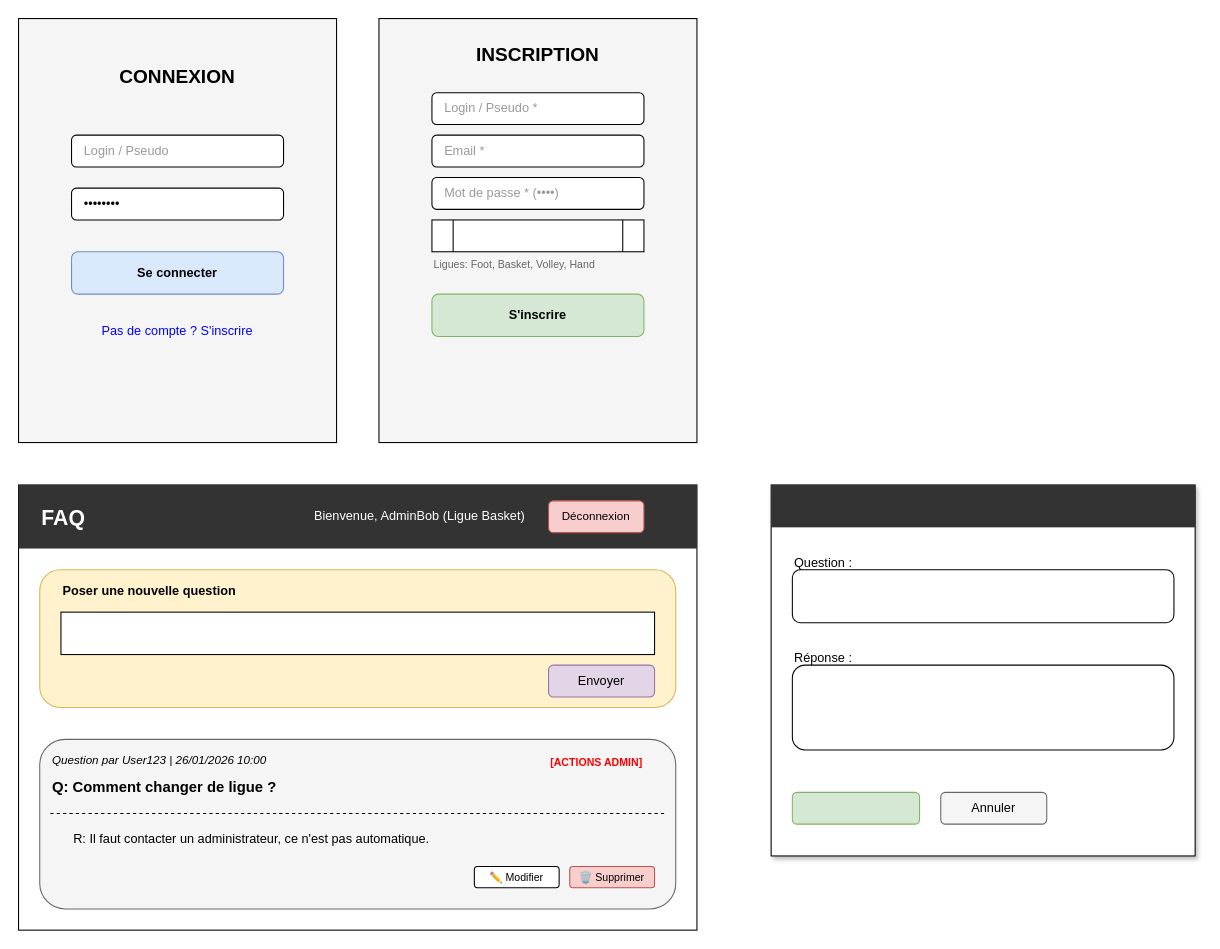
Image size: 1220x949. Some labels were removed from this diagram. The centre of each missing label's shape, as x and y in pixels:
Comment changer de ligue ?: the point at 982,596
EDITION DU MESSAGE: the point at 983,505
Enregistrer: the point at 855,807
Il faut contacter un administrateur...: the point at 982,707
Tapez votre question ici (255 caractères min)...: the point at 357,633
▼ Choisir une ligue: the point at 537,235
